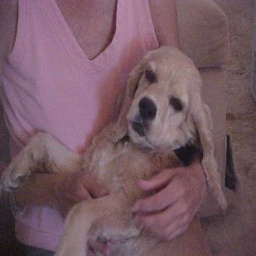dog: (6, 45, 225, 256)
